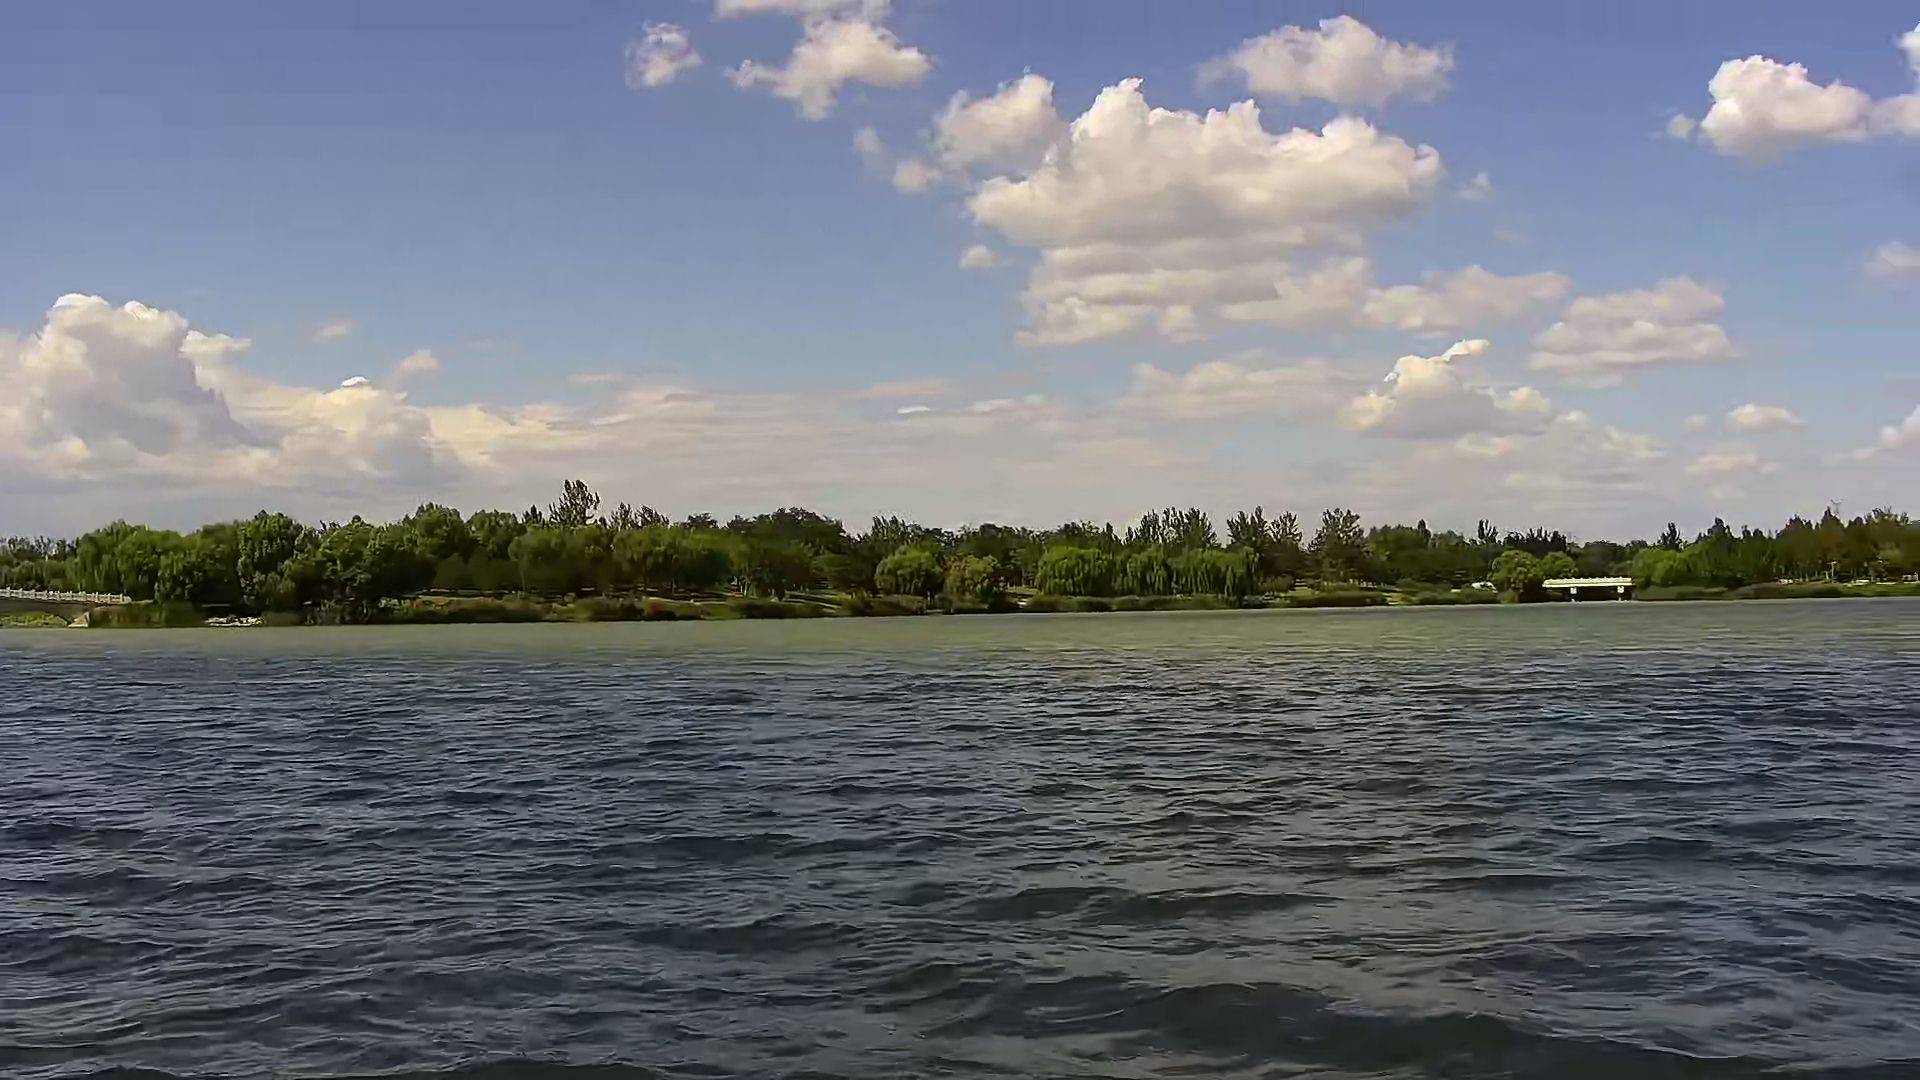bridge: (1, 582, 131, 629), (1542, 576, 1636, 607)
